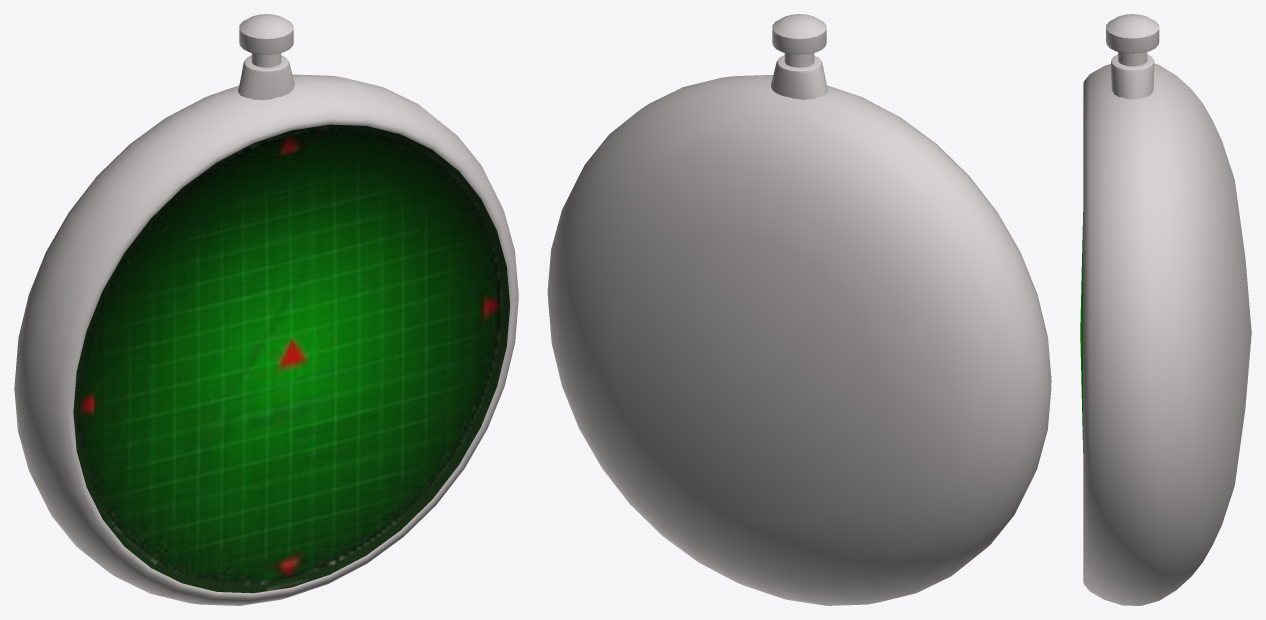
Rendered from Dragon Radar.FBX.
3 renders of one model, left to right at view 1: azimuth 30°, elevation 25°; view 2: azimuth 150°, elevation 25°; view 3: azimuth 270°, elevation 25°, orthographic. The views are drawn at different scales.
Parts seen in each view (by area): view 1: Radar; view 2: Radar; view 3: Radar.
Part boxes in pixels (left/top/right/bottom): Radar: left=14, top=14, right=518, bottom=605; Radar: left=547, top=14, right=1051, bottom=605; Radar: left=1080, top=14, right=1251, bottom=605.
Bounding box in the file's own units: 150 × 170 × 46.95.
Materials: 2 (2 with a texture image).
